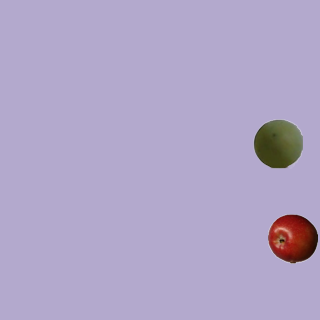Apple Braeburn: (267, 213, 317, 263)
Grape White 4: (252, 118, 302, 168)
